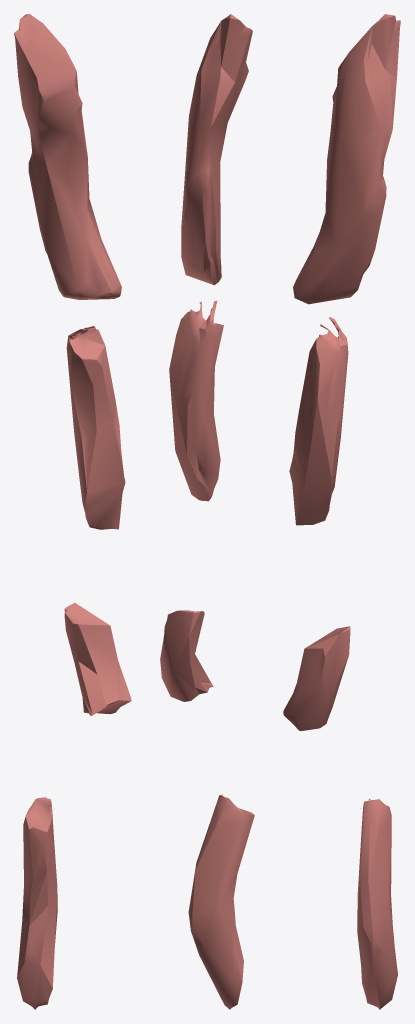
The model's file is fma71307_fj1550m.glb.
The picture shows the model from 3 angles, left to right: view 1: azimuth 90°, elevation 25°; view 2: azimuth 210°, elevation 25°; view 3: azimuth 270°, elevation 25°; orthographic projection.
Parts seen in each view (by area): view 1: FMA71307_FJ1550M; view 2: FMA71307_FJ1550M; view 3: FMA71307_FJ1550M.
Part boxes in pixels (x1,y1,x2,y2): FMA71307_FJ1550M: (14,14,131,1009); FMA71307_FJ1550M: (160,14,254,1009); FMA71307_FJ1550M: (283,14,400,1009).
Size of the model in its own units: 0.00572 by 0.0914 by 0.00978.
